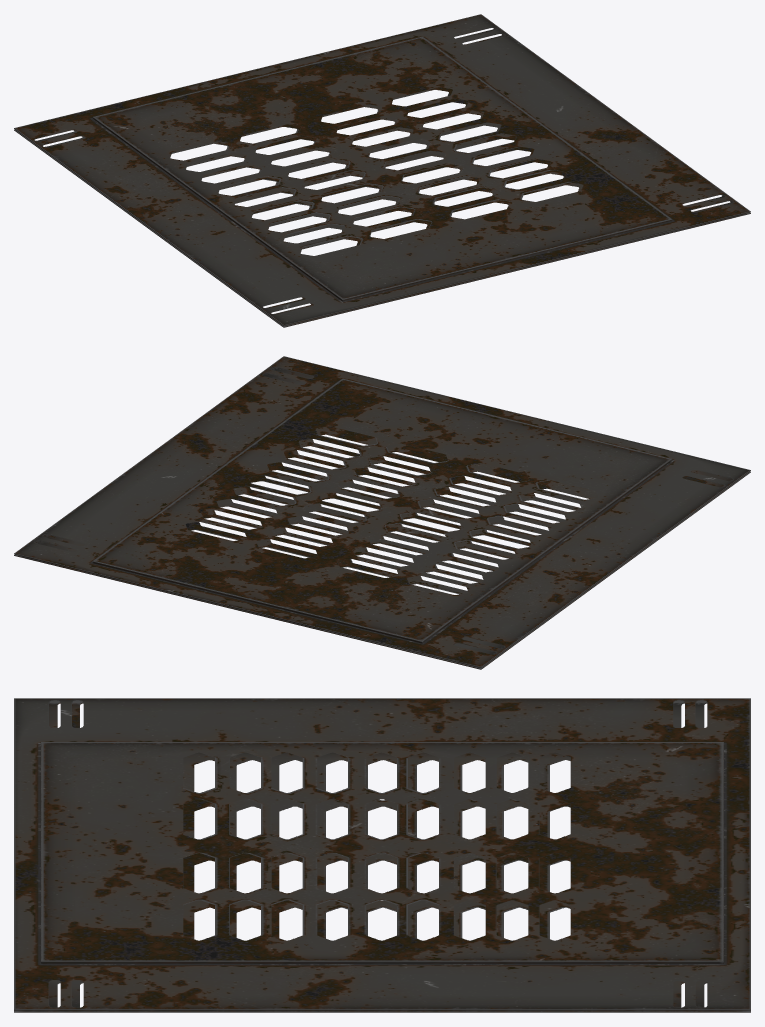
The model's file is Grill.fbx.
3 views of the same model, one above another, from view 1: azimuth 30°, elevation 25°; view 2: azimuth 150°, elevation 25°; view 3: azimuth 270°, elevation 25° (orthographic). The views are drawn at different scales.
Parts seen in each view (by area): view 1: Plane.028; view 2: Plane.028; view 3: Plane.028.
Part boxes in pixels (x1,y1,x2,y2): Plane.028: [14, 14, 750, 327]; Plane.028: [14, 356, 750, 669]; Plane.028: [14, 698, 750, 1012].
Size of the model in its own units: 184 by 2.05 by 184.
